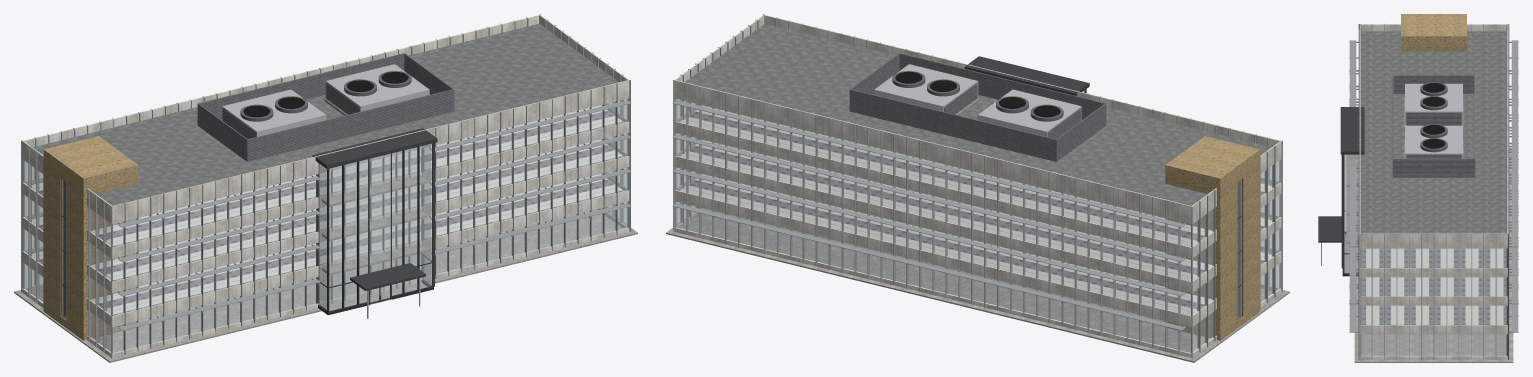
Rendered from office-low.glb.
The picture shows the model from 3 angles, left to right: view 1: azimuth 30°, elevation 25°; view 2: azimuth 150°, elevation 25°; view 3: azimuth 270°, elevation 25°; orthographic projection. The views are drawn at different scales.
Visible parts, largest first — view 1: Core glass, Office spandrels, Office floors, Office fins, Roof, Entrance hall, Entrance hall glass, Brick core, Plant screen, Core window, Roof plant; view 2: Core glass, Office spandrels, Office fins, Office floors, Roof, Entrance hall, Brick core, Plant screen, Roof plant, Core window; view 3: Roof, Core glass, Office spandrels, Office fins, Office floors, Entrance hall, Plant screen, Roof plant, Brick core, Core window, Entrance hall glass.
Boxes of the visible parts, bbox=[...] form: Core glass: bbox=[24, 99, 627, 352]; Office spandrels: bbox=[22, 15, 629, 357]; Office floors: bbox=[27, 105, 623, 321]; Office fins: bbox=[20, 14, 631, 358]; Roof: bbox=[32, 23, 618, 205]; Entrance hall: bbox=[14, 98, 637, 362]; Entrance hall glass: bbox=[320, 144, 431, 310]; Brick core: bbox=[43, 136, 138, 340]; Plant screen: bbox=[197, 53, 454, 161]; Core window: bbox=[61, 128, 437, 319]; Roof plant: bbox=[222, 64, 429, 136]; Core glass: bbox=[676, 99, 1279, 352]; Office spandrels: bbox=[674, 15, 1281, 357]; Office fins: bbox=[672, 14, 1283, 358]; Office floors: bbox=[680, 105, 1276, 321]; Roof: bbox=[685, 23, 1271, 205]; Entrance hall: bbox=[666, 98, 1289, 362]; Brick core: bbox=[1165, 136, 1260, 340]; Plant screen: bbox=[849, 53, 1106, 161]; Roof plant: bbox=[874, 64, 1081, 136]; Core window: bbox=[964, 56, 1242, 319]; Roof: bbox=[1361, 31, 1506, 233]; Core glass: bbox=[1361, 249, 1506, 355]; Office spandrels: bbox=[1359, 24, 1508, 359]; Office fins: bbox=[1349, 23, 1518, 359]; Office floors: bbox=[1362, 248, 1505, 324]; Entrance hall: bbox=[1344, 98, 1513, 362]; Plant screen: bbox=[1392, 75, 1475, 177]; Roof plant: bbox=[1405, 82, 1462, 158]; Brick core: bbox=[1401, 14, 1466, 51]; Core window: bbox=[1318, 107, 1364, 274]; Entrance hall glass: bbox=[1344, 154, 1358, 272].
Size of the model in its own units: 61.2 by 18.73 by 24.25.
Materials: 19 (8 with a texture image).
